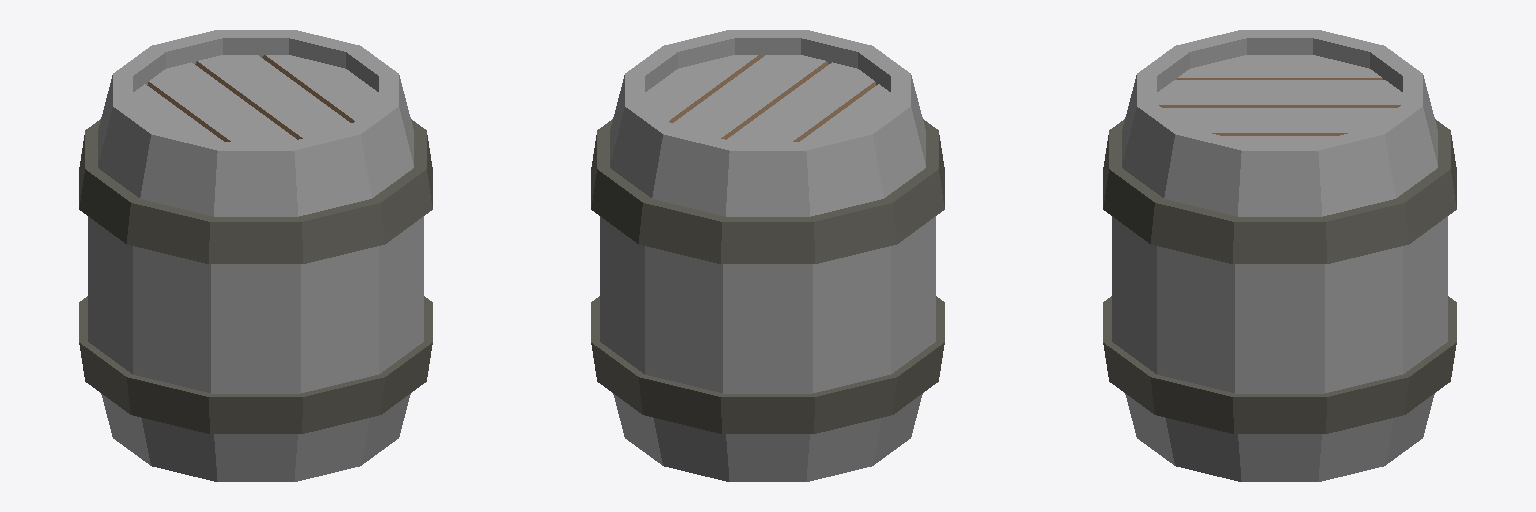
The model's file is ClosedBarrel.obj.
3 views of the same model, side by side, from view 1: azimuth 30°, elevation 25°; view 2: azimuth 150°, elevation 25°; view 3: azimuth 270°, elevation 25° (orthographic).
Size of the model in its own units: 0.483 by 0.5 by 0.483.